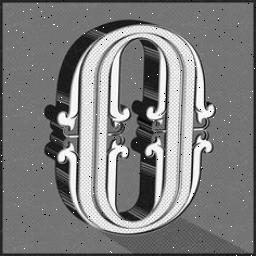o: (33, 6, 241, 250)
